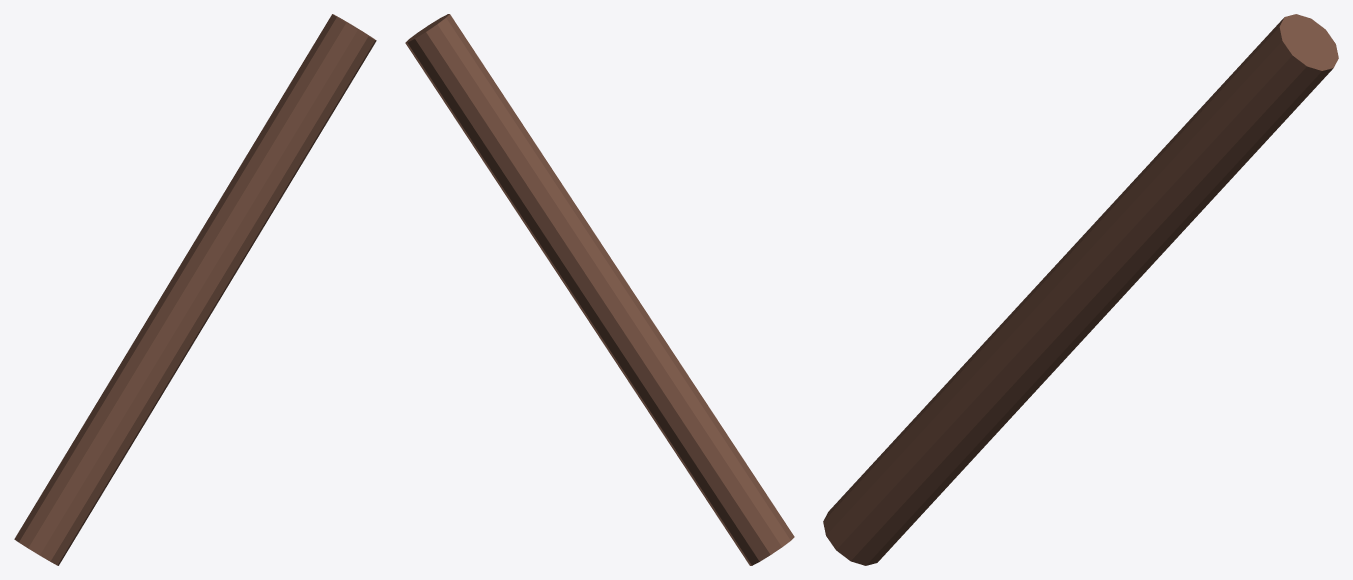
The model's file is firetorch.glb.
3 renders of one model, left to right at view 1: azimuth 30°, elevation 25°; view 2: azimuth 150°, elevation 25°; view 3: azimuth 330°, elevation 25°, orthographic. The views are drawn at different scales.
Visible parts, largest first — view 1: group2044495118; view 2: group2044495118; view 3: group2044495118.
Boxes of the visible parts, x1=… form: group2044495118: x1=14, y1=14, x2=376, y2=565; group2044495118: x1=405, y1=14, x2=794, y2=565; group2044495118: x1=823, y1=14, x2=1338, y2=565.
Bounding box in the file's own units: 29.08 × 35.77 × 4.96.
